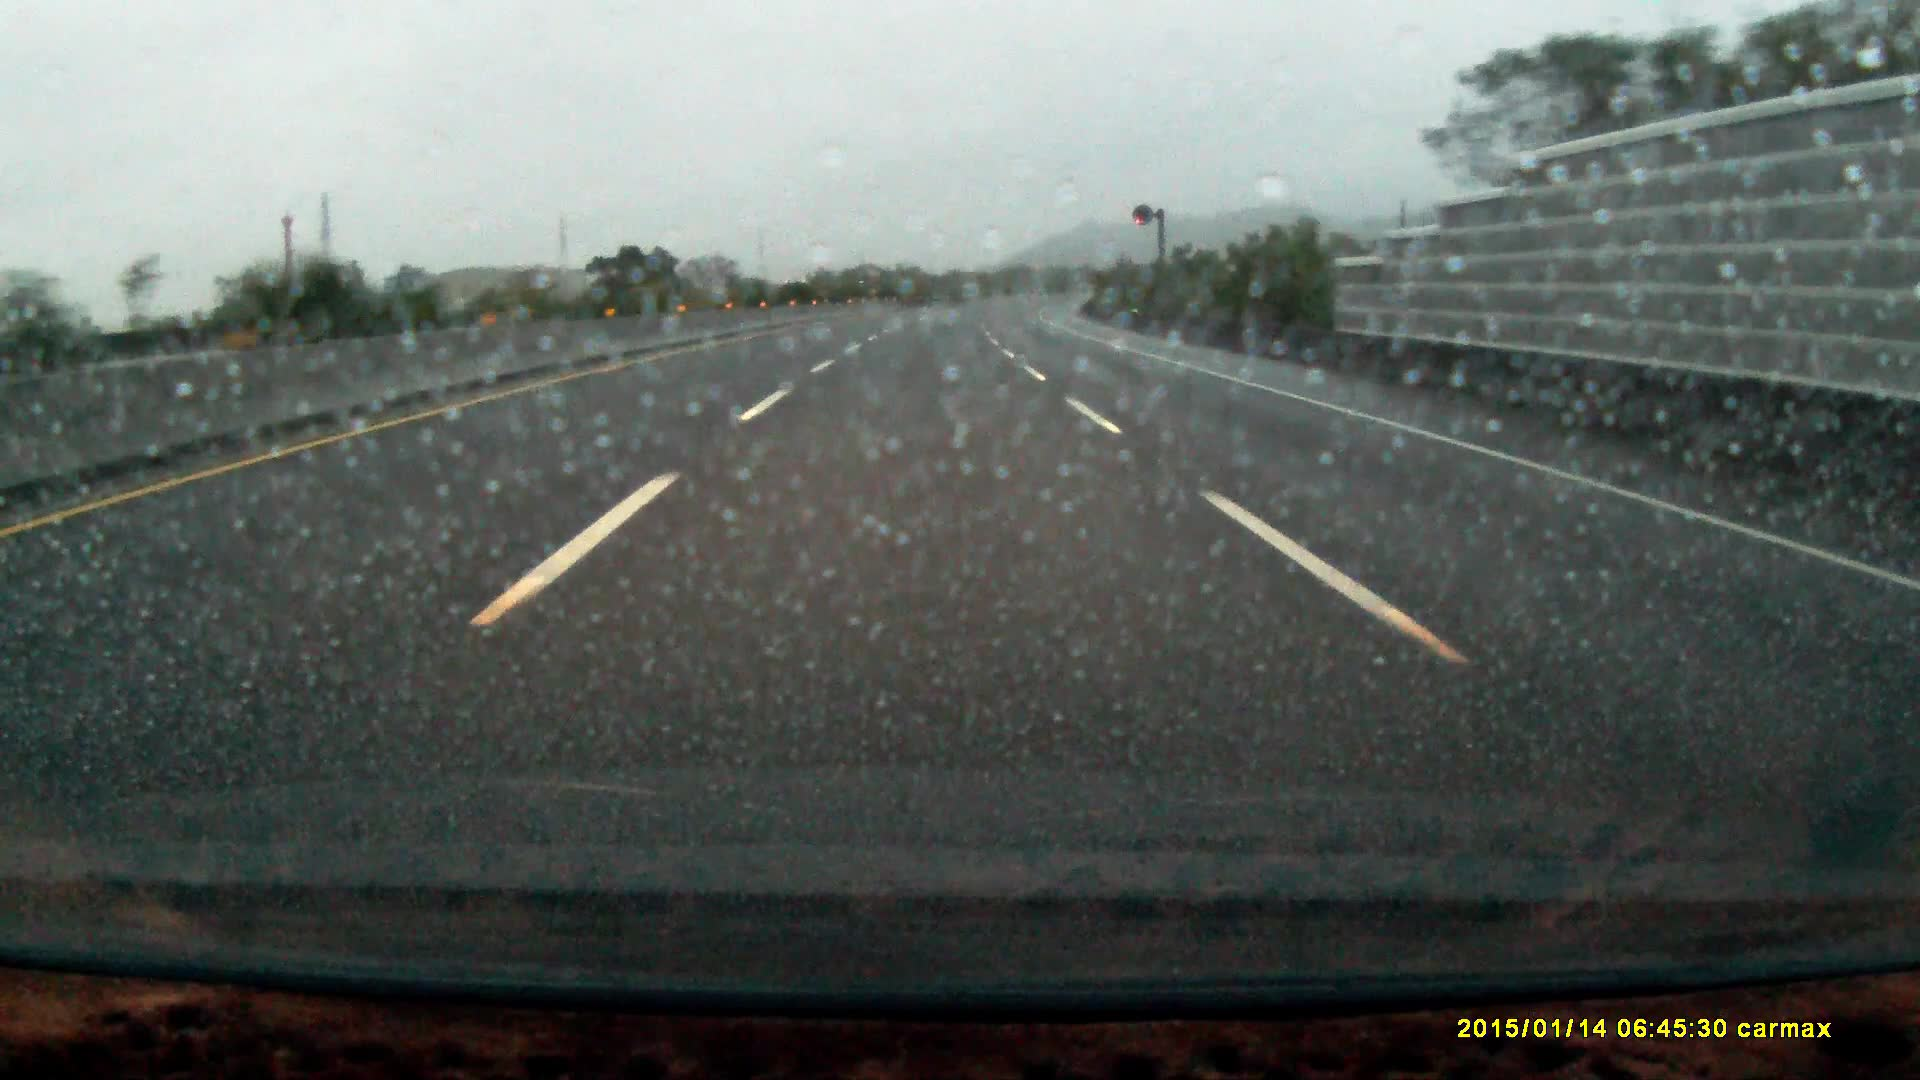vehicle: (848, 269, 891, 307)
